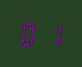one: (40, 19, 60, 47)
zero: (19, 19, 39, 46)
